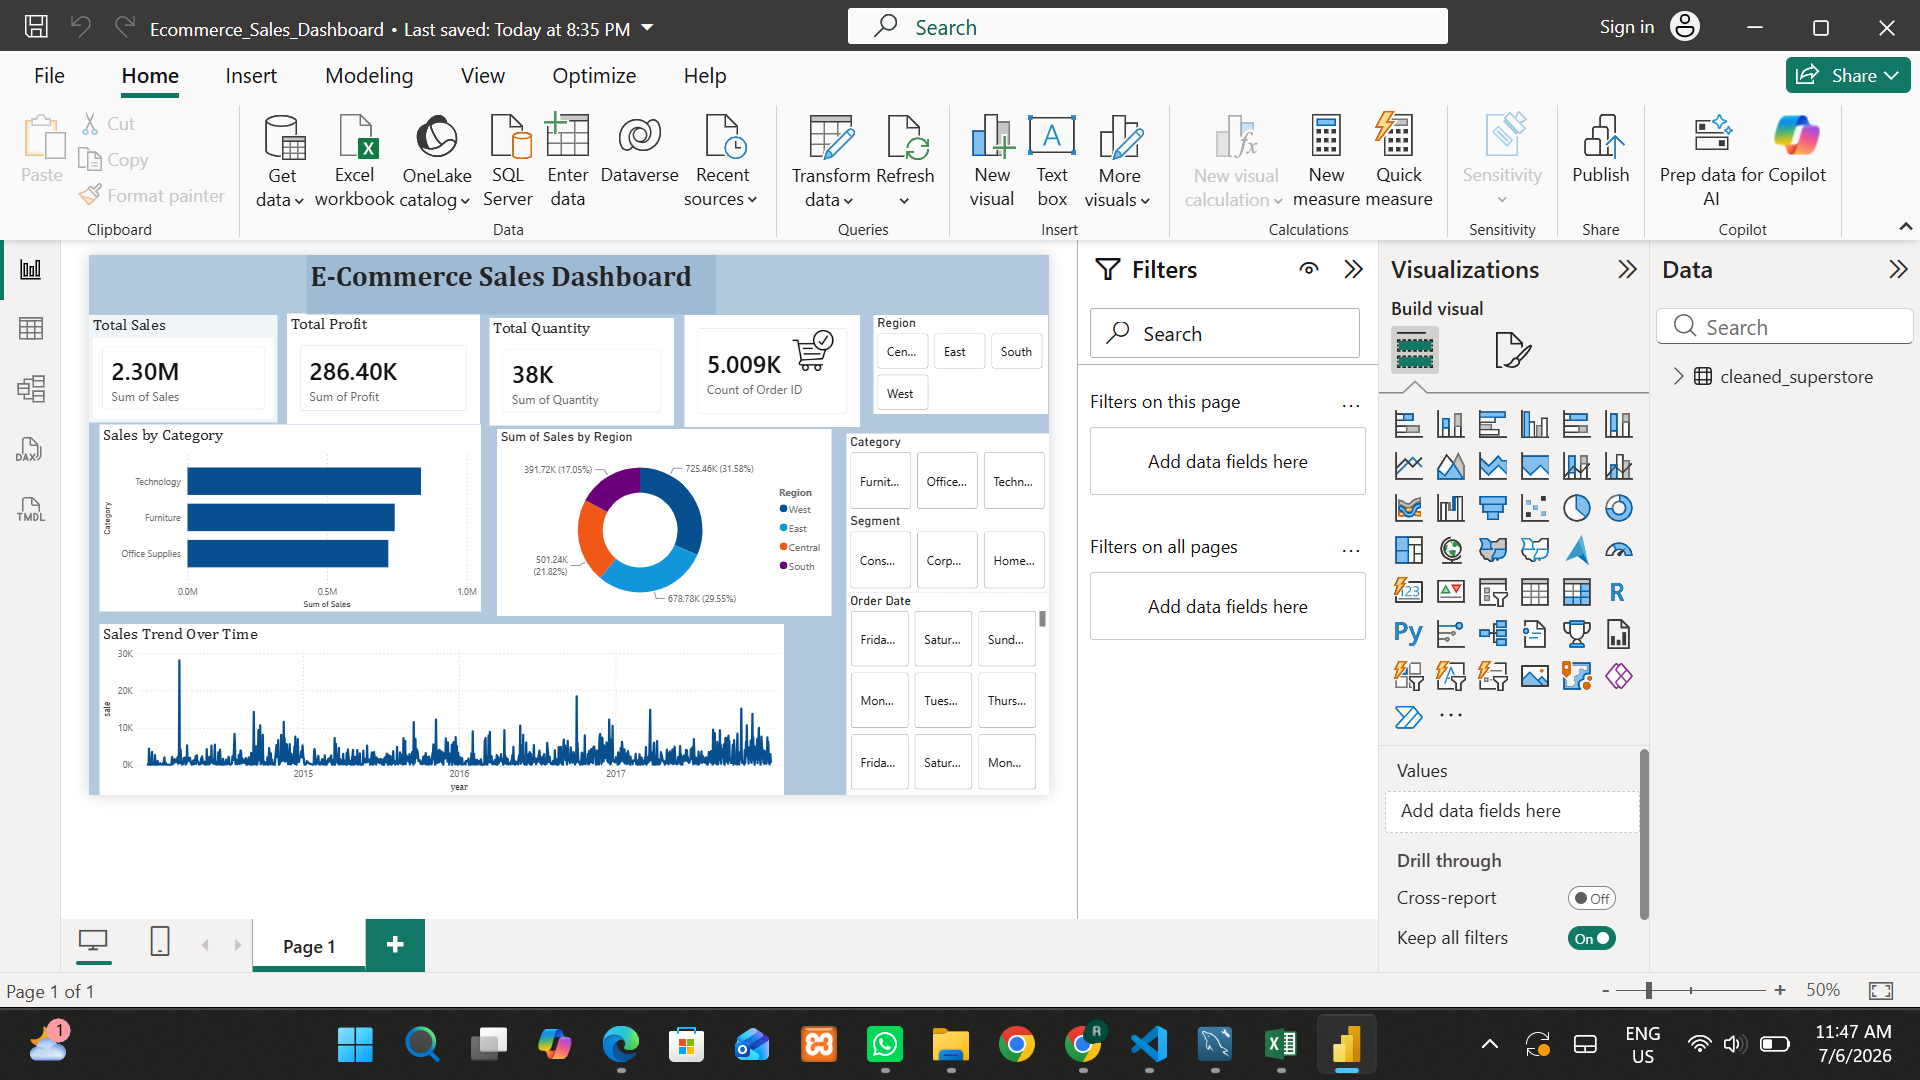

Layout of this report page (visuals, bound fields, positions):
{"tool":"powerbi","page":{"name":"Page 1","canvas":[1280,720],"ordinal":0},"visuals":[{"type":"cardVisual","title":"Total Sales","fields":{"Data":["Sum(cleaned_superstore.Sales)"]},"box":[0,79.4,251.3,143.6],"z":0},{"type":"cardVisual","title":"Total Profit","fields":{"Data":["Sum(cleaned_superstore.Profit)"]},"box":[264.6,77.5,257,147.4],"z":1000},{"type":"cardVisual","title":"Total Quantity","fields":{"Data":["Sum(cleaned_superstore.Quantity)"]},"box":[534.8,83.2,245.7,143.6],"z":2000},{"type":"cardVisual","fields":{"Data":["Count(cleaned_superstore.Order ID)"]},"box":[793.7,79.4,234.3,149.3],"z":3000},{"type":"clusteredBarChart","title":" Sales by Category","fields":{"Category":["cleaned_superstore.Category"],"Y":["Sum(cleaned_superstore.Sales)"]},"box":[13.2,226.8,508.4,249.5],"z":4000},{"type":"lineChart","title":"Sales Trend Over Time","fields":{"Y":["Sum(cleaned_superstore.Sales)"],"Category":["cleaned_superstore.Order Date"]},"box":[13.2,491.3,912.8,228.7],"z":4002},{"type":"textbox","box":[289.1,0,546.1,79.4],"z":4004},{"type":"advancedSlicerVisual","fields":{"Values":["cleaned_superstore.Region"]},"box":[1046.9,79.4,232.4,132.3],"z":4005},{"type":"advancedSlicerVisual","fields":{"Values":["cleaned_superstore.Category"]},"box":[1009.1,238.1,270.2,105.8],"z":4006},{"type":"advancedSlicerVisual","fields":{"Values":["cleaned_superstore.Segment"]},"box":[1009.1,343.9,270.2,105.8],"z":4007},{"type":"advancedSlicerVisual","fields":{"Values":["cleaned_superstore.Order Date"]},"box":[1009.1,449.8,270.2,270.2],"z":4008},{"type":"donutChart","fields":{"Category":["cleaned_superstore.Region"],"Y":["Sum(cleaned_superstore.Sales)"]},"box":[544.3,232.4,446,249.5],"z":4009},{"type":"image","box":[901.4,100.2,126.6,54.8],"z":4010}]}

Visuals, with their boxes in screenshot pixels (x1, y1, x2, y2):
"Total Sales" cardVisual: box(70, 47, 442, 260)
"Total Profit" cardVisual: box(461, 45, 842, 263)
"Total Quantity" cardVisual: box(861, 53, 1225, 265)
cardVisual - Count(cleaned_superstore.Order ID): box(1244, 47, 1591, 268)
" Sales by Category" clusteredBarChart: box(90, 265, 842, 635)
"Sales Trend Over Time" lineChart: box(90, 657, 1440, 995)
textbox: box(498, 0, 1305, 47)
advancedSlicerVisual - cleaned_superstore.Region: box(1619, 47, 1919, 243)
advancedSlicerVisual - cleaned_superstore.Category: box(1563, 282, 1919, 439)
advancedSlicerVisual - cleaned_superstore.Segment: box(1563, 439, 1919, 595)
advancedSlicerVisual - cleaned_superstore.Order Date: box(1563, 595, 1919, 995)
donutChart - cleaned_superstore.Region x Sum(cleaned_superstore.Sales): box(875, 274, 1535, 643)
image: box(1403, 78, 1591, 159)
